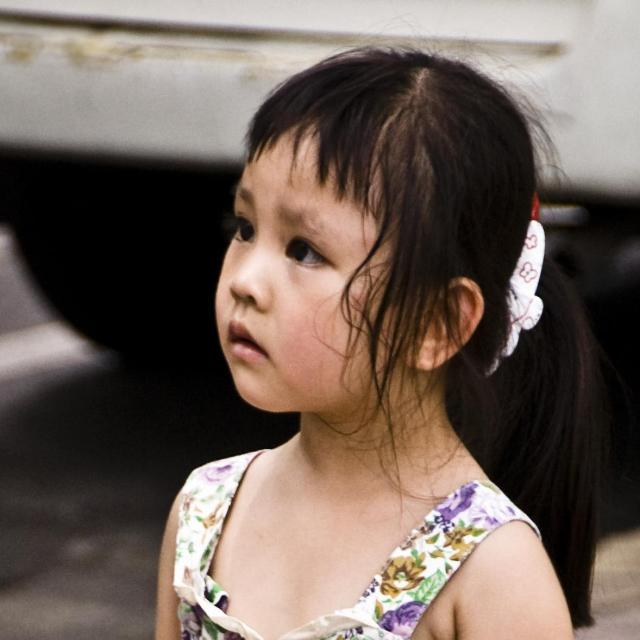no-glass: (236, 217, 330, 268)
